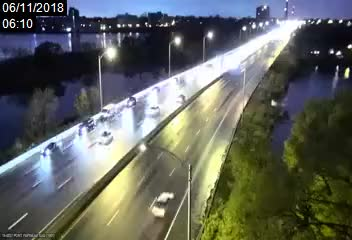personal_car: (150, 191, 176, 220), (99, 106, 121, 120), (96, 130, 113, 146), (78, 119, 95, 135), (41, 142, 57, 156), (146, 105, 160, 117), (125, 96, 138, 106)
